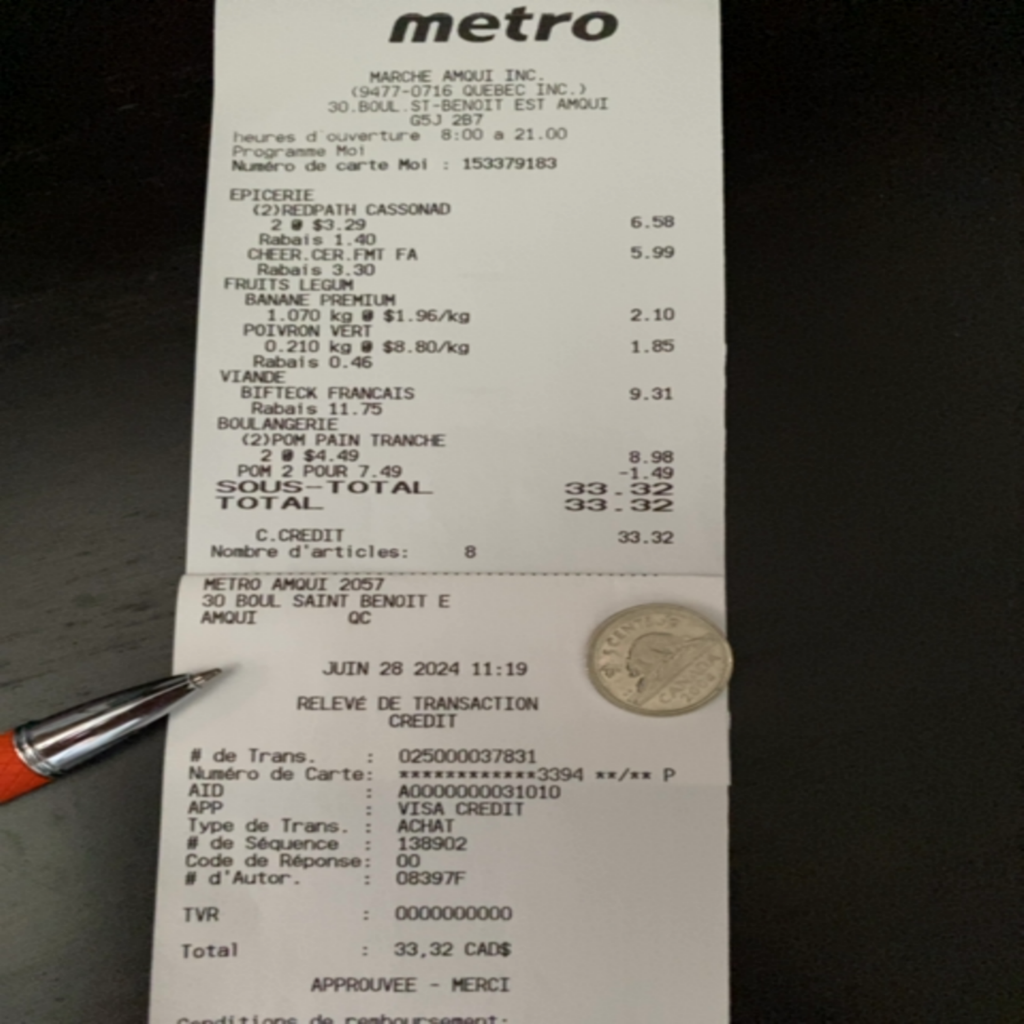recipt: (147, 0, 730, 1016)
